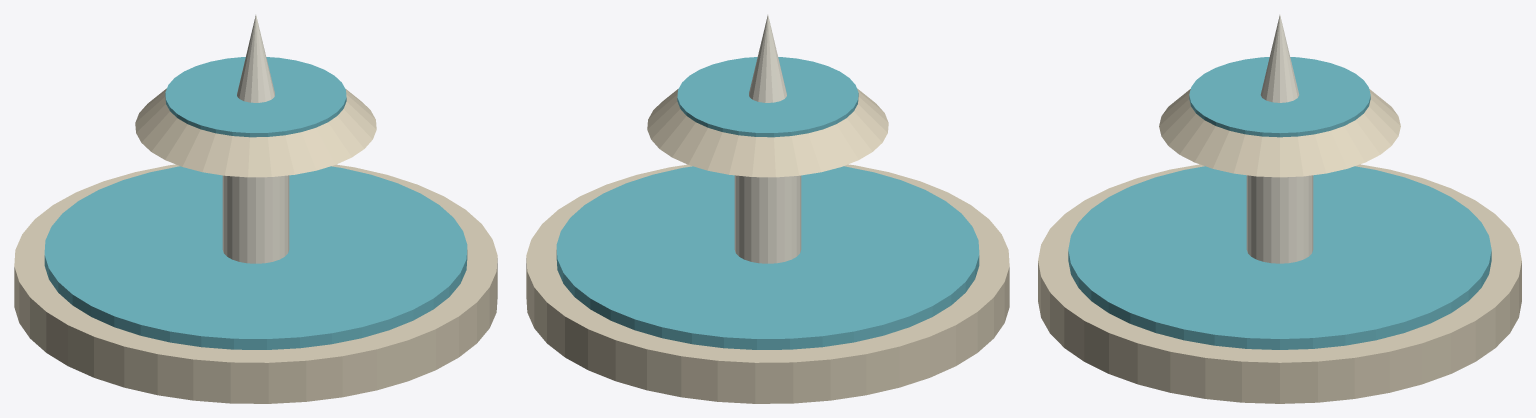
The model's file is fountain.glb.
3 renders of one model, left to right at view 1: azimuth 30°, elevation 25°; view 2: azimuth 150°, elevation 25°; view 3: azimuth 270°, elevation 25°, orthographic.
Visible parts, largest first — view 1: Fountain water, Fountain foot, Upper basin, Upper water, Fountain stem, Fountain finial; view 2: Fountain water, Fountain foot, Upper basin, Upper water, Fountain stem, Fountain finial; view 3: Fountain water, Fountain foot, Upper basin, Upper water, Fountain stem, Fountain finial.
Part boxes in pixels (left/top/right/bottom): Fountain water: left=44, top=166, right=467, bottom=349; Fountain foot: left=14, top=164, right=497, bottom=403; Upper basin: left=135, top=88, right=376, bottom=177; Upper water: left=165, top=57, right=346, bottom=137; Fountain stem: left=222, top=175, right=289, bottom=263; Fountain finial: left=237, top=15, right=274, bottom=102; Fountain water: left=556, top=166, right=979, bottom=349; Fountain foot: left=526, top=164, right=1009, bottom=403; Upper basin: left=647, top=88, right=888, bottom=177; Upper water: left=677, top=57, right=858, bottom=137; Fountain stem: left=734, top=175, right=801, bottom=263; Fountain finial: left=749, top=15, right=786, bottom=102; Fountain water: left=1068, top=166, right=1491, bottom=349; Fountain foot: left=1038, top=164, right=1521, bottom=403; Upper basin: left=1159, top=89, right=1400, bottom=177; Upper water: left=1189, top=57, right=1370, bottom=137; Fountain stem: left=1246, top=175, right=1313, bottom=263; Fountain finial: left=1260, top=15, right=1299, bottom=102.
Size of the model in its own units: 3.2 by 2.1 by 3.2.
